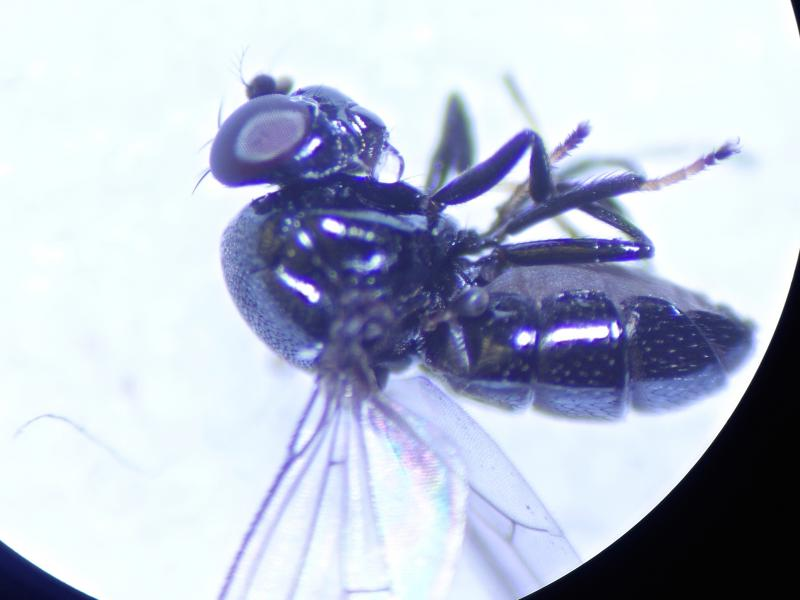Ephydridae: (208, 55, 763, 597)
